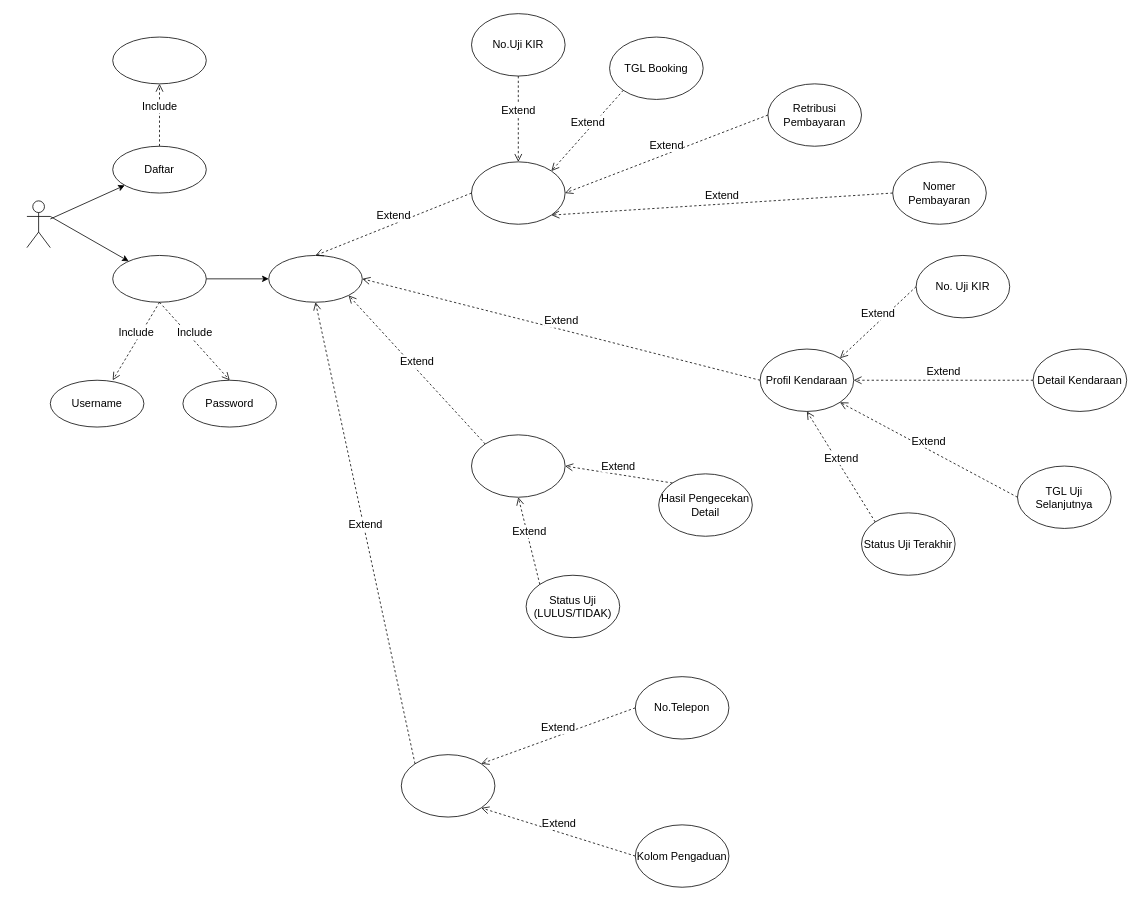
Image size: 1140x901. Some labels were removed from this diagram. The shapes that lost their labels are listed below. From the top down, each one's centre as x and y in pixels, then its label:
At (159,60): "Registrasi".
At (518,192): "Pendaftaran Uji".
At (38,224): "Pengguna".
At (159,278): "Login".
At (315,278): "Dashboard".
At (518,465): "Riwayat Pengujian".
At (448,785): "Lapor Pengaduan".
